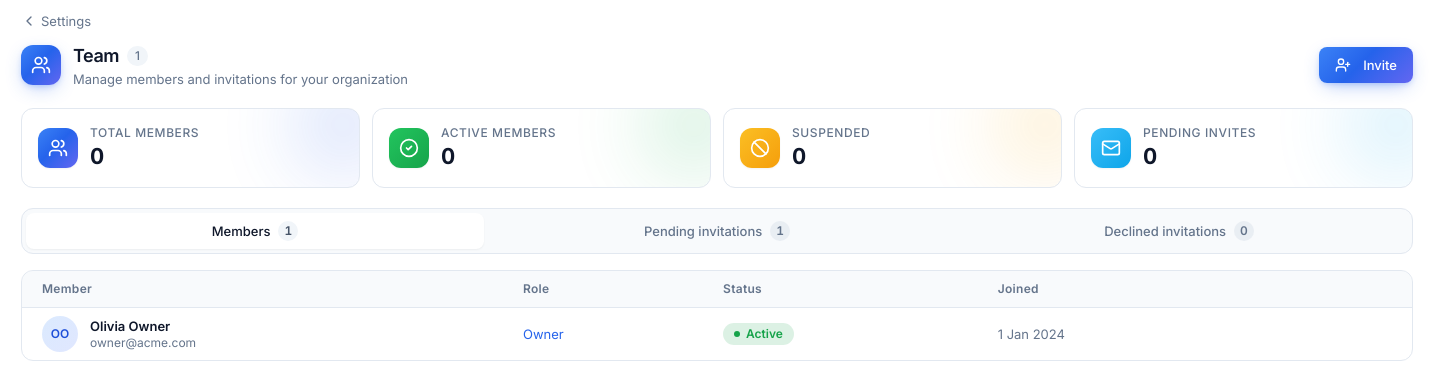
Test: TeamManagementView › renders pending invitations with email and role
Click the tab "Pending invitations 1" at (717, 231), box [488,213,946,249]
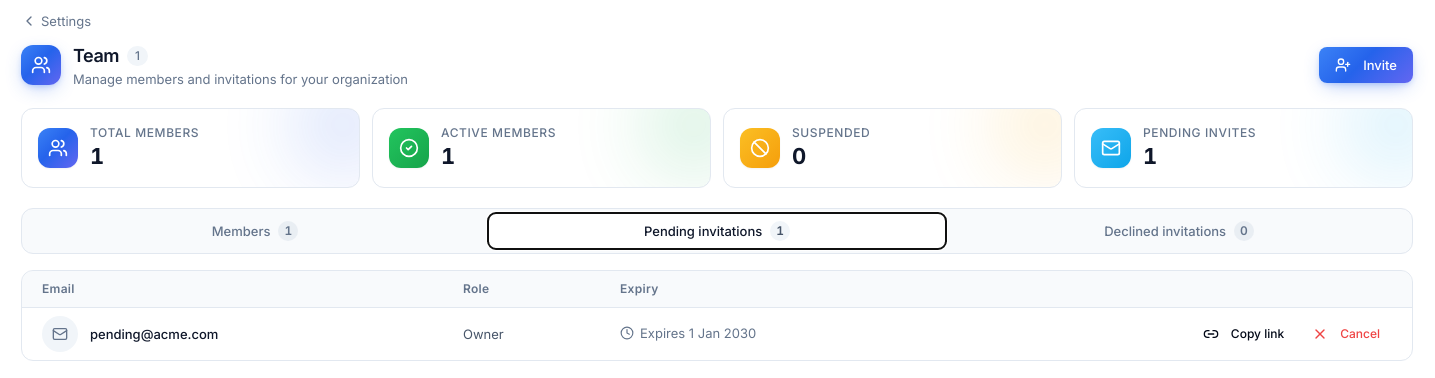
Check: the text "pending@acme.com" is shown, box [90,324,218,342]
Check: the text "Expires 1 Jan 2030" is shown, box [620,324,756,342]
